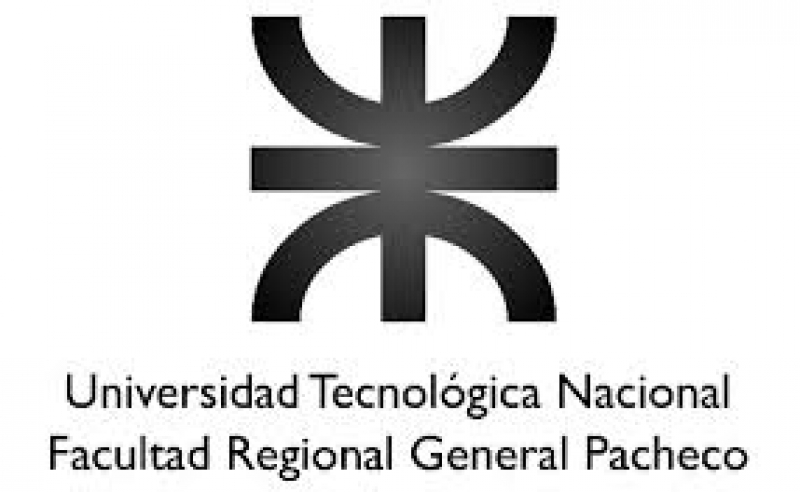utn: (247, 13, 563, 322)
